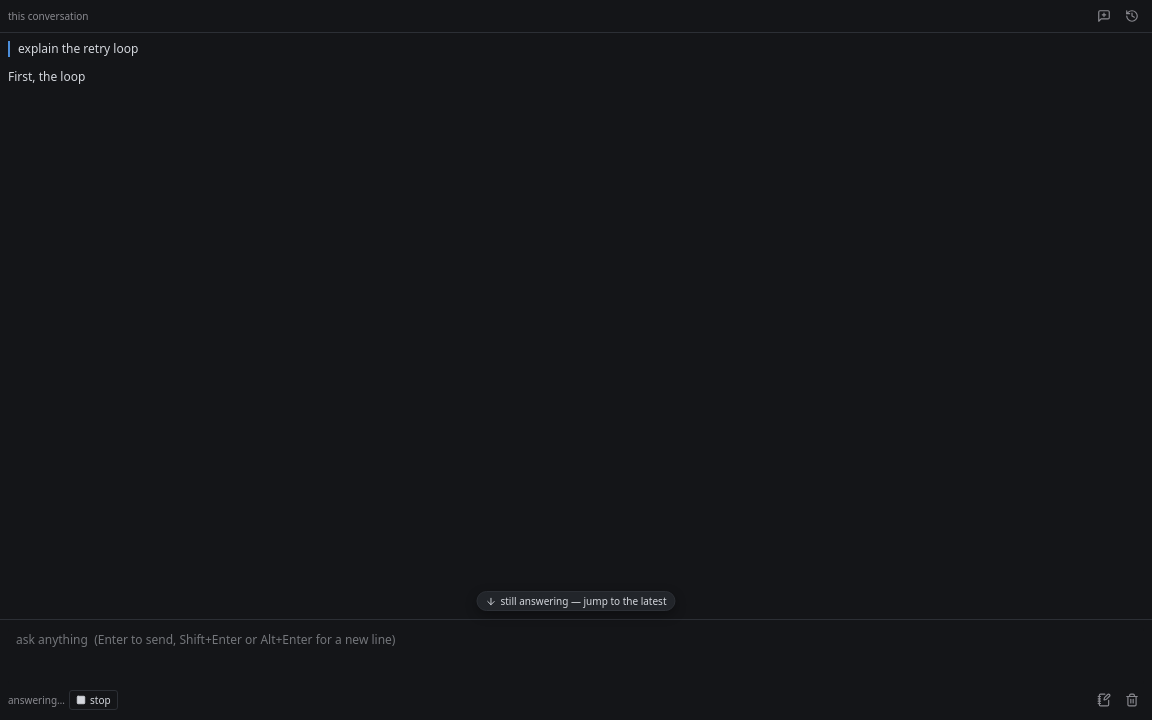
Test: reading while it answers › jump to the latest picks it up again
This screenshot has width=1152, height=720.
(page scrolled)
Click the button "still answering — jump to the latest" at (576, 601), box [476,591,676,611]
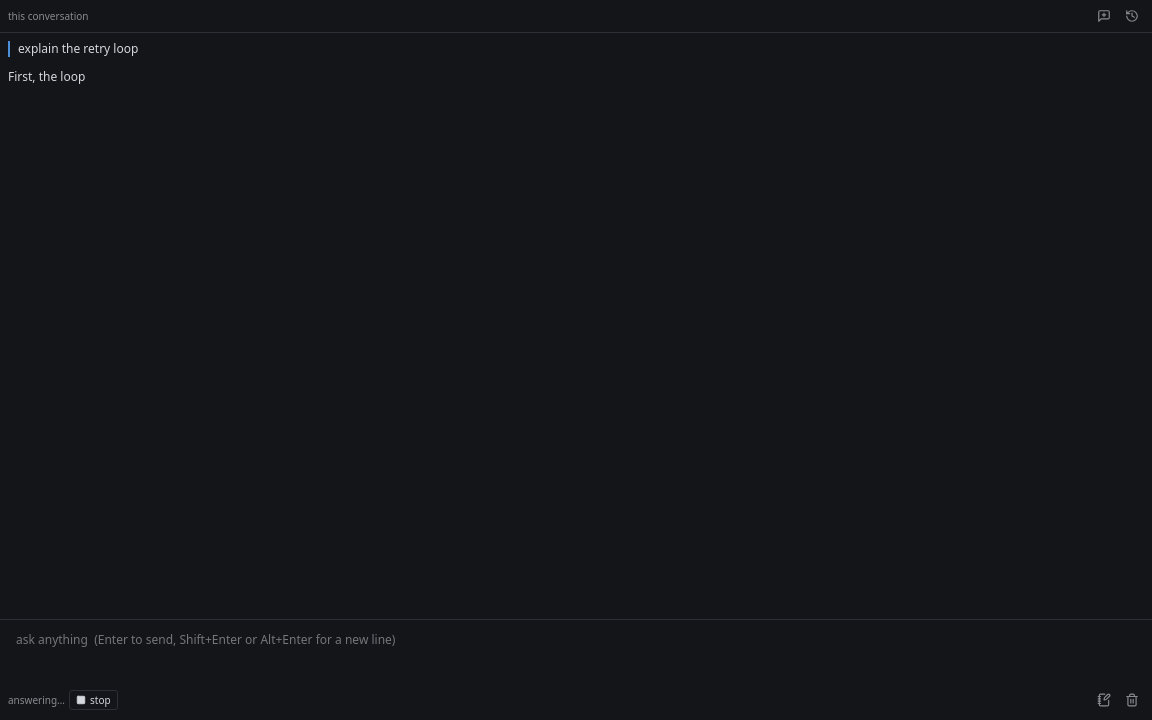
Check: the button "jump to the latest" is gone
